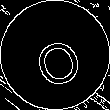O_N: (26, 23, 84, 87)
